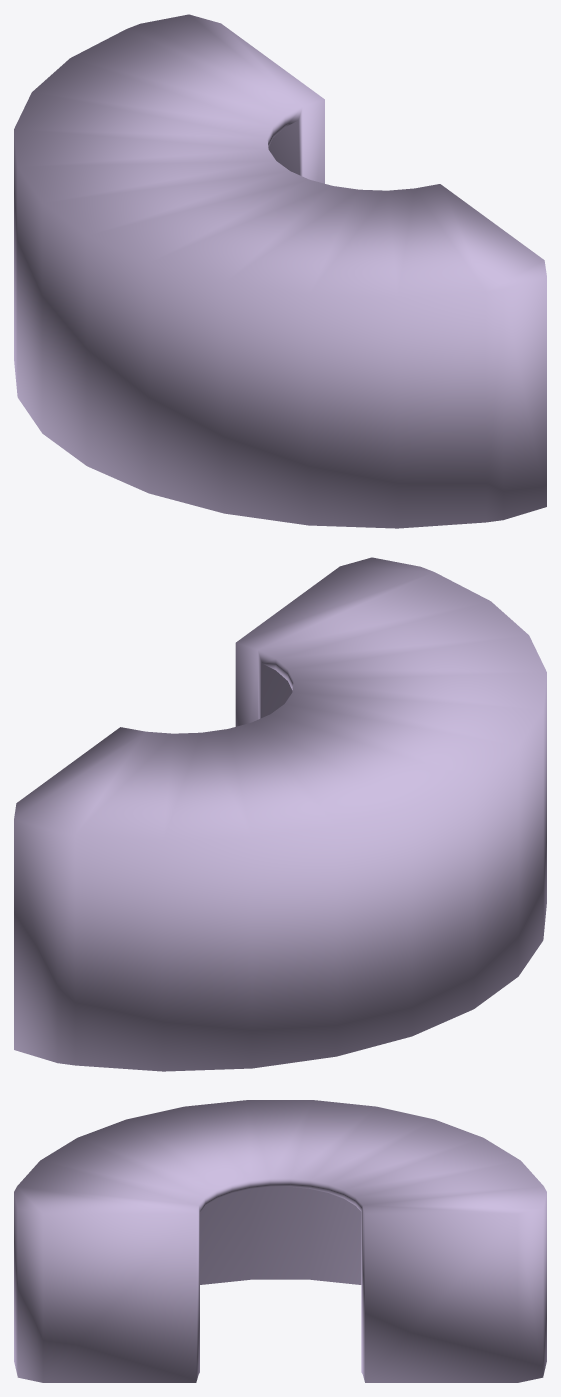
Rendered from CurvedDesk.fbx.
3 views of the same model, one above another, from view 1: azimuth 30°, elevation 25°; view 2: azimuth 150°, elevation 25°; view 3: azimuth 270°, elevation 25° (orthographic). The views are drawn at different scales.
Parts seen in each view (by area): view 1: CurvedDesk:Box001; view 2: CurvedDesk:Box001; view 3: CurvedDesk:Box001.
Boxes of the visible parts, <box> form: CurvedDesk:Box001: <box>14,14,546,528</box>; CurvedDesk:Box001: <box>14,557,546,1071</box>; CurvedDesk:Box001: <box>14,1100,546,1382</box>.
Size of the model in its own units: 14.44 by 10 by 28.57.
